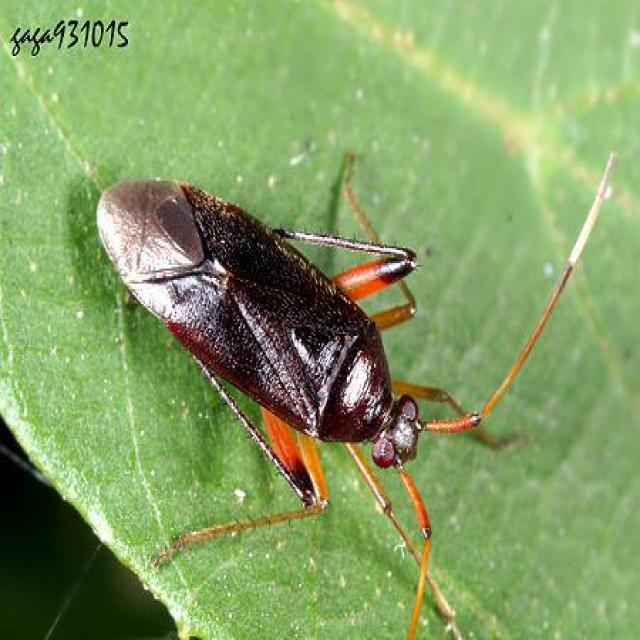Miridae-Adult-: (82, 145, 536, 548)
